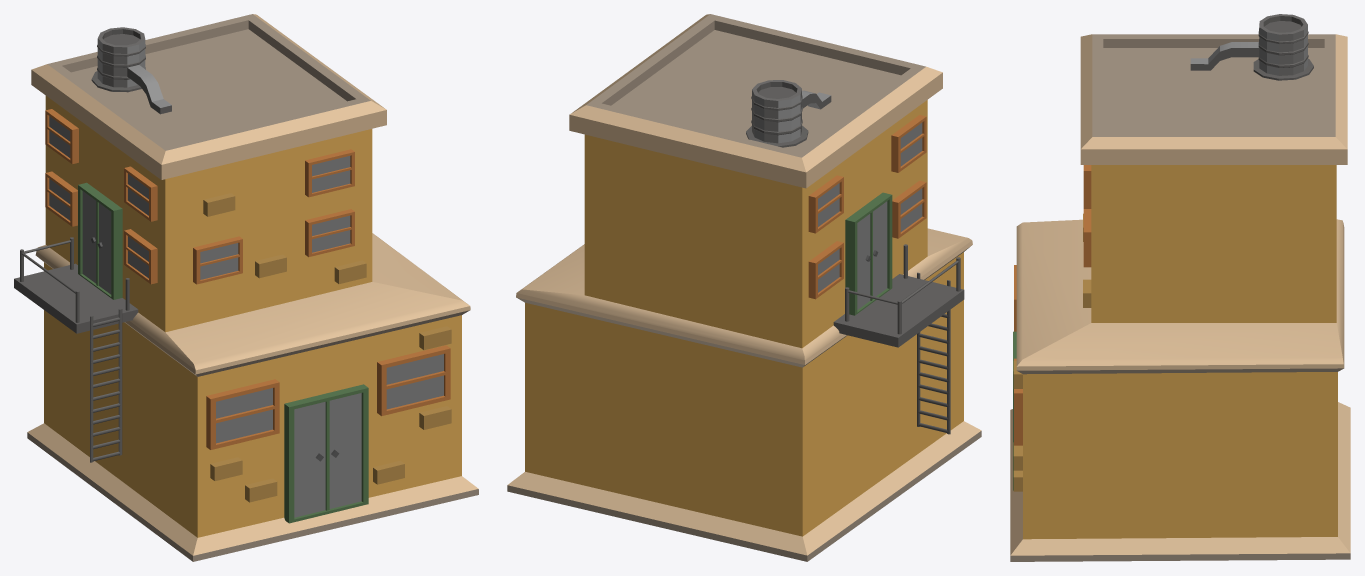
Rendered from LilYellowBuilding.fbx.
3 renders of one model, left to right at view 1: azimuth 30°, elevation 25°; view 2: azimuth 150°, elevation 25°; view 3: azimuth 270°, elevation 25°, orthographic. The views are drawn at different scales.
Visible parts, largest first — view 1: polySurface74; view 2: polySurface74; view 3: polySurface74.
Boxes of the visible parts, <box> form: polySurface74: <box>14,14,478,561</box>; polySurface74: <box>507,14,981,561</box>; polySurface74: <box>1010,14,1350,561</box>.
Size of the model in its own units: 12.12 by 14.32 by 10.38.
